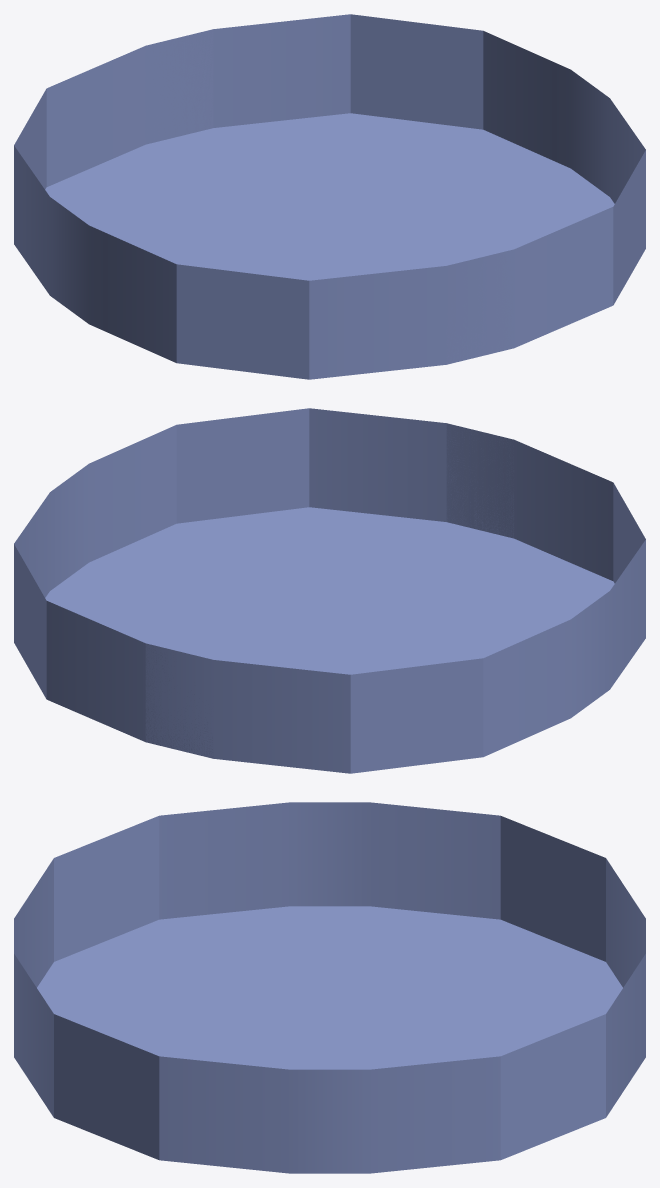
The model's file is engineRoolCollider.fbx.
3 renders of one model, top to bottom at view 1: azimuth 30°, elevation 25°; view 2: azimuth 150°, elevation 25°; view 3: azimuth 270°, elevation 25°, orthographic. The views are drawn at different scales.
Visible parts, largest first — view 1: engineRoolCollider, engineRoolCollider.001; view 2: engineRoolCollider, engineRoolCollider.001; view 3: engineRoolCollider, engineRoolCollider.001.
Boxes of the visible parts, x1,y1,x2,y2 form: engineRoolCollider: [14, 14, 645, 379]; engineRoolCollider.001: [45, 113, 614, 280]; engineRoolCollider: [14, 408, 645, 773]; engineRoolCollider.001: [45, 507, 614, 674]; engineRoolCollider: [14, 802, 645, 1173]; engineRoolCollider.001: [37, 906, 622, 1069].
Size of the model in its own units: 1541 by 280 by 1541.
